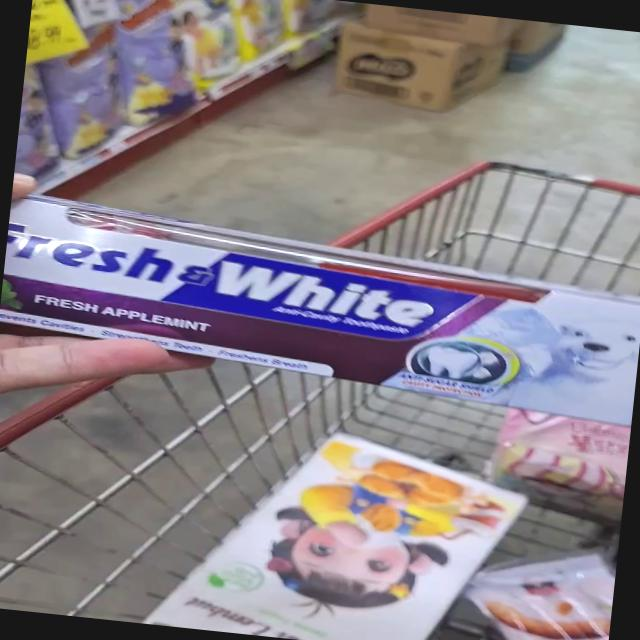Tisu: (253, 424, 526, 594), (134, 509, 473, 640)
Ubat Gigi: (0, 186, 640, 418)
